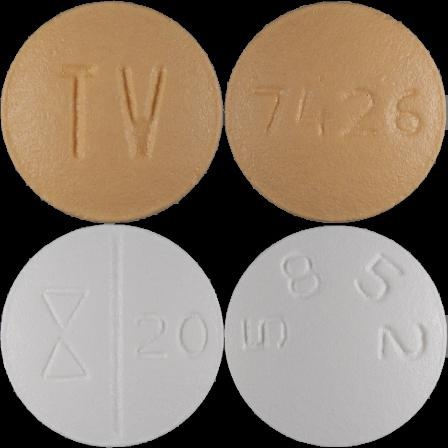54458-890: (0, 0, 224, 224)
